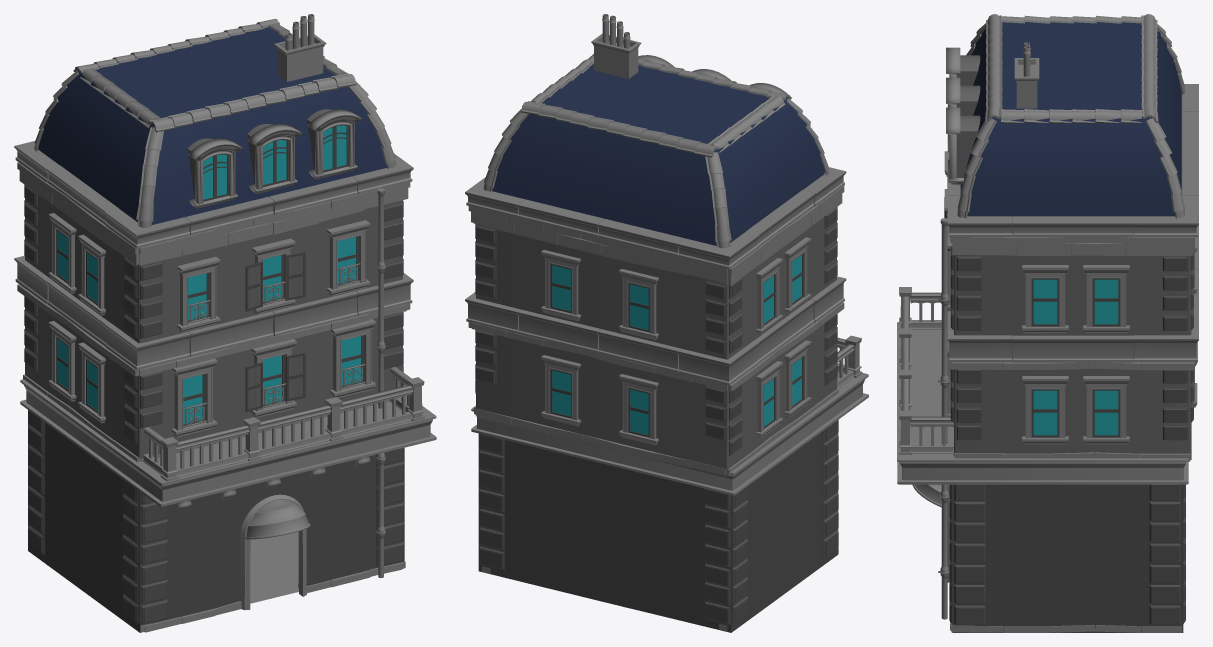
File: SM_building_apartment_04.fbx
3 views of the same model, side by side, from view 1: azimuth 30°, elevation 25°; view 2: azimuth 150°, elevation 25°; view 3: azimuth 270°, elevation 25° (orthographic). The views are drawn at different scales.
Visible parts, largest first — view 1: Box325; view 2: Box325; view 3: Box325.
Boxes of the visible parts, box(x1,y1,x2,y2) form: Box325: box(14, 14, 436, 632); Box325: box(465, 14, 868, 632); Box325: box(897, 14, 1198, 632).
Size of the model in its own units: 341 by 637 by 313.
